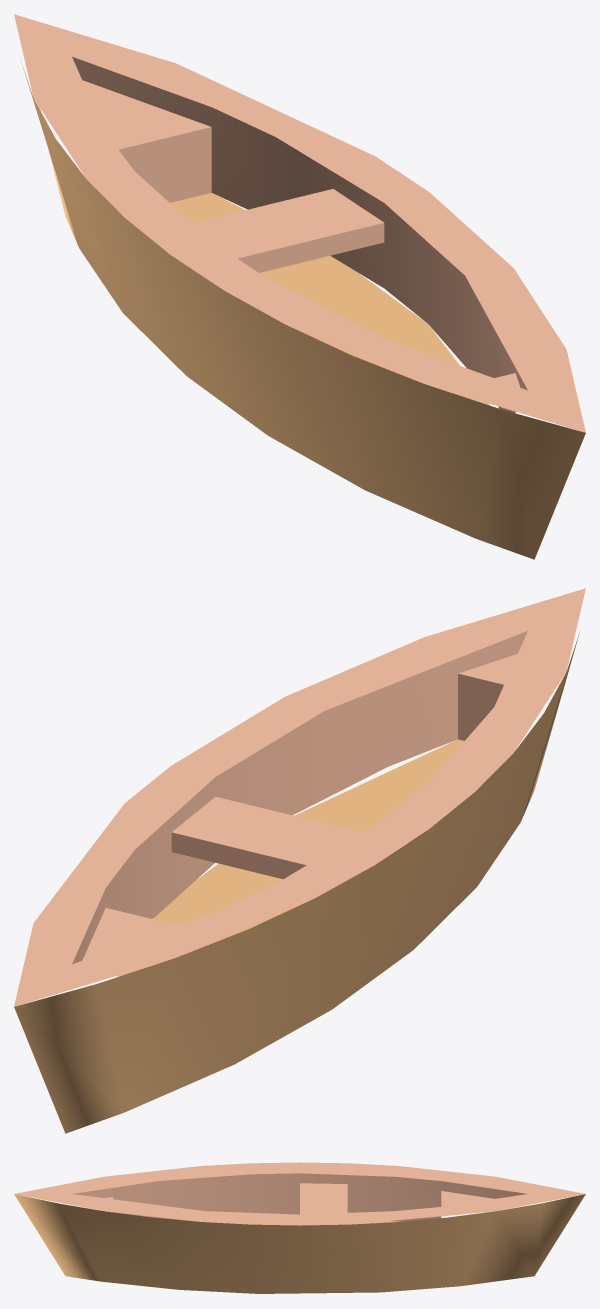
The model's file is canoe.glb.
3 renders of one model, top to bottom at view 1: azimuth 30°, elevation 25°; view 2: azimuth 150°, elevation 25°; view 3: azimuth 270°, elevation 25°, orthographic. The views are drawn at different scales.
Parts seen in each view (by area): view 1: canoe; view 2: canoe; view 3: canoe.
Part boxes in pixels (x1=…): canoe: x1=14, y1=14, x2=585, y2=559; canoe: x1=14, y1=588, x2=585, y2=1133; canoe: x1=14, y1=1162, x2=585, y2=1293.
Bounding box in the file's own units: 0.3 × 0.1825 × 1.15.
